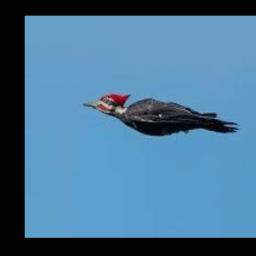Woodpecker: (84, 92, 240, 136)
